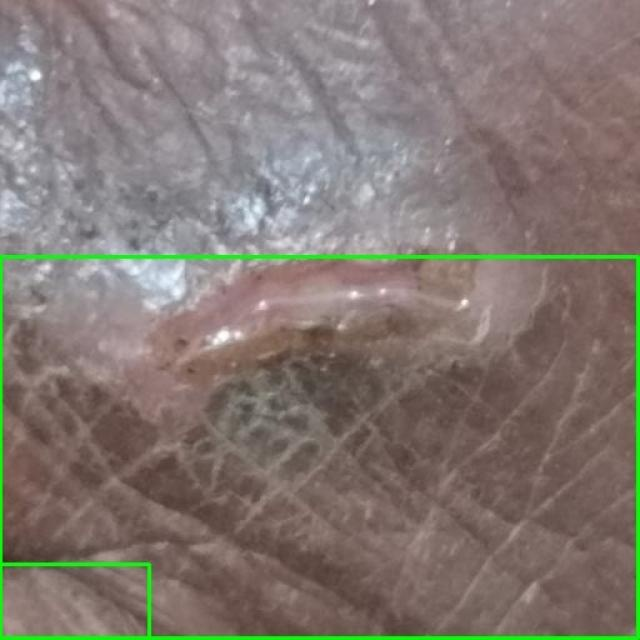Eczema: (0, 256, 639, 639), (0, 564, 149, 639)
